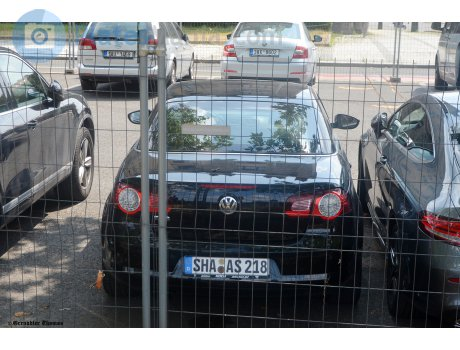License Plates: (192, 254, 269, 272)
